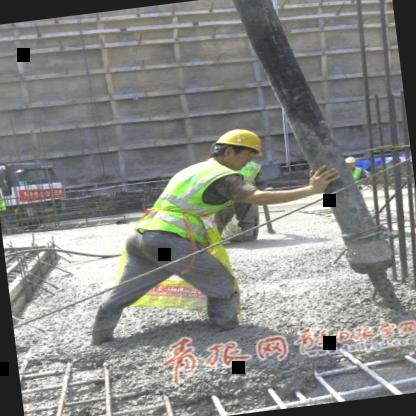helmet: (200, 118, 272, 172)
